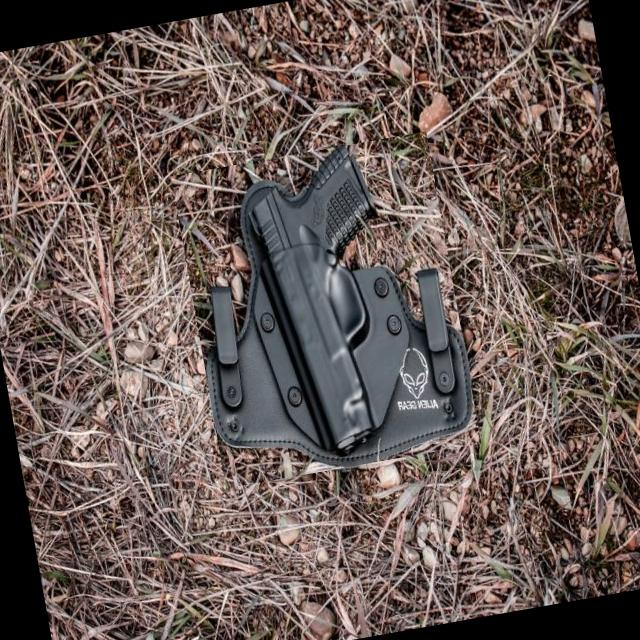Gun: (207, 146, 472, 466)
